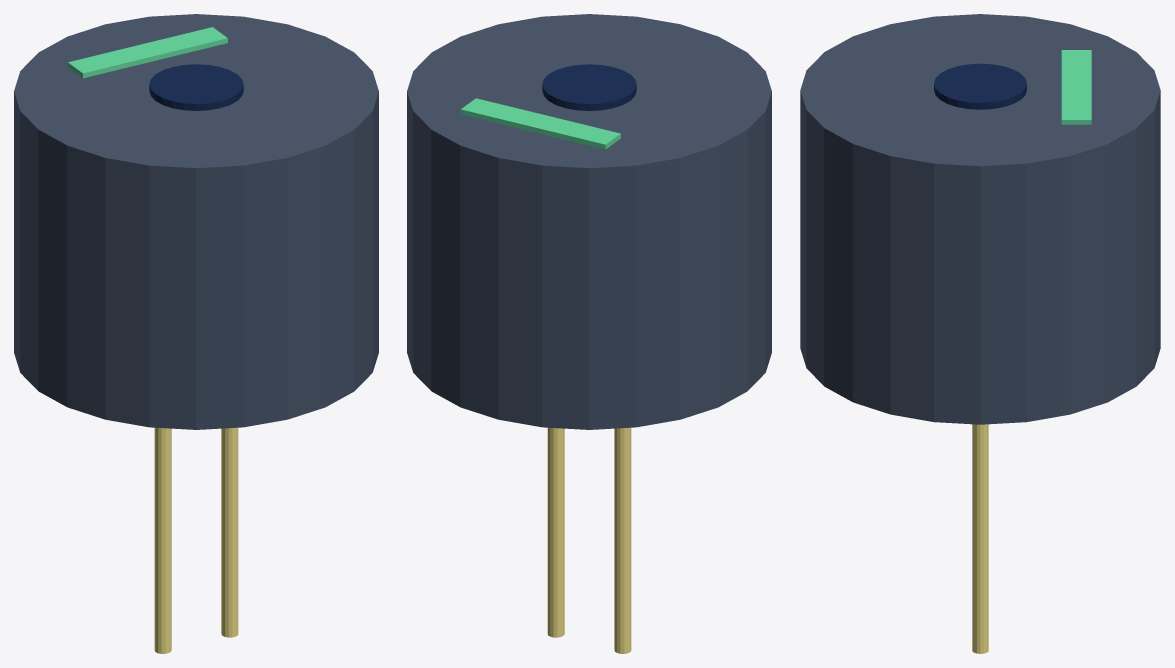
The model's file is buzzer.glb.
3 views of the same model, side by side, from view 1: azimuth 30°, elevation 25°; view 2: azimuth 150°, elevation 25°; view 3: azimuth 270°, elevation 25° (orthographic).
Visible parts, largest first — view 1: buzzer-active-5v_mesh; view 2: buzzer-active-5v_mesh; view 3: buzzer-active-5v_mesh.
Boxes of the visible parts, bbox=[...] form: buzzer-active-5v_mesh: bbox=[14, 14, 378, 653]; buzzer-active-5v_mesh: bbox=[407, 14, 771, 653]; buzzer-active-5v_mesh: bbox=[800, 14, 1160, 653].
Size of the model in its own units: 12 by 20.25 by 12.
